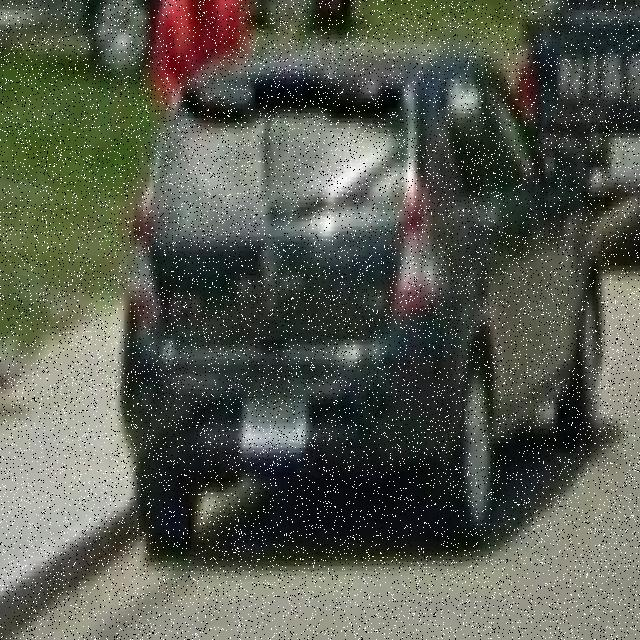cars: (131, 54, 608, 562)
